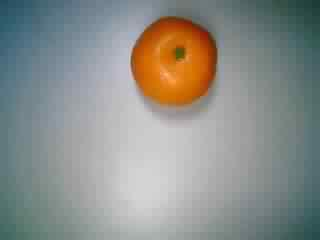orange: (129, 11, 224, 113)
